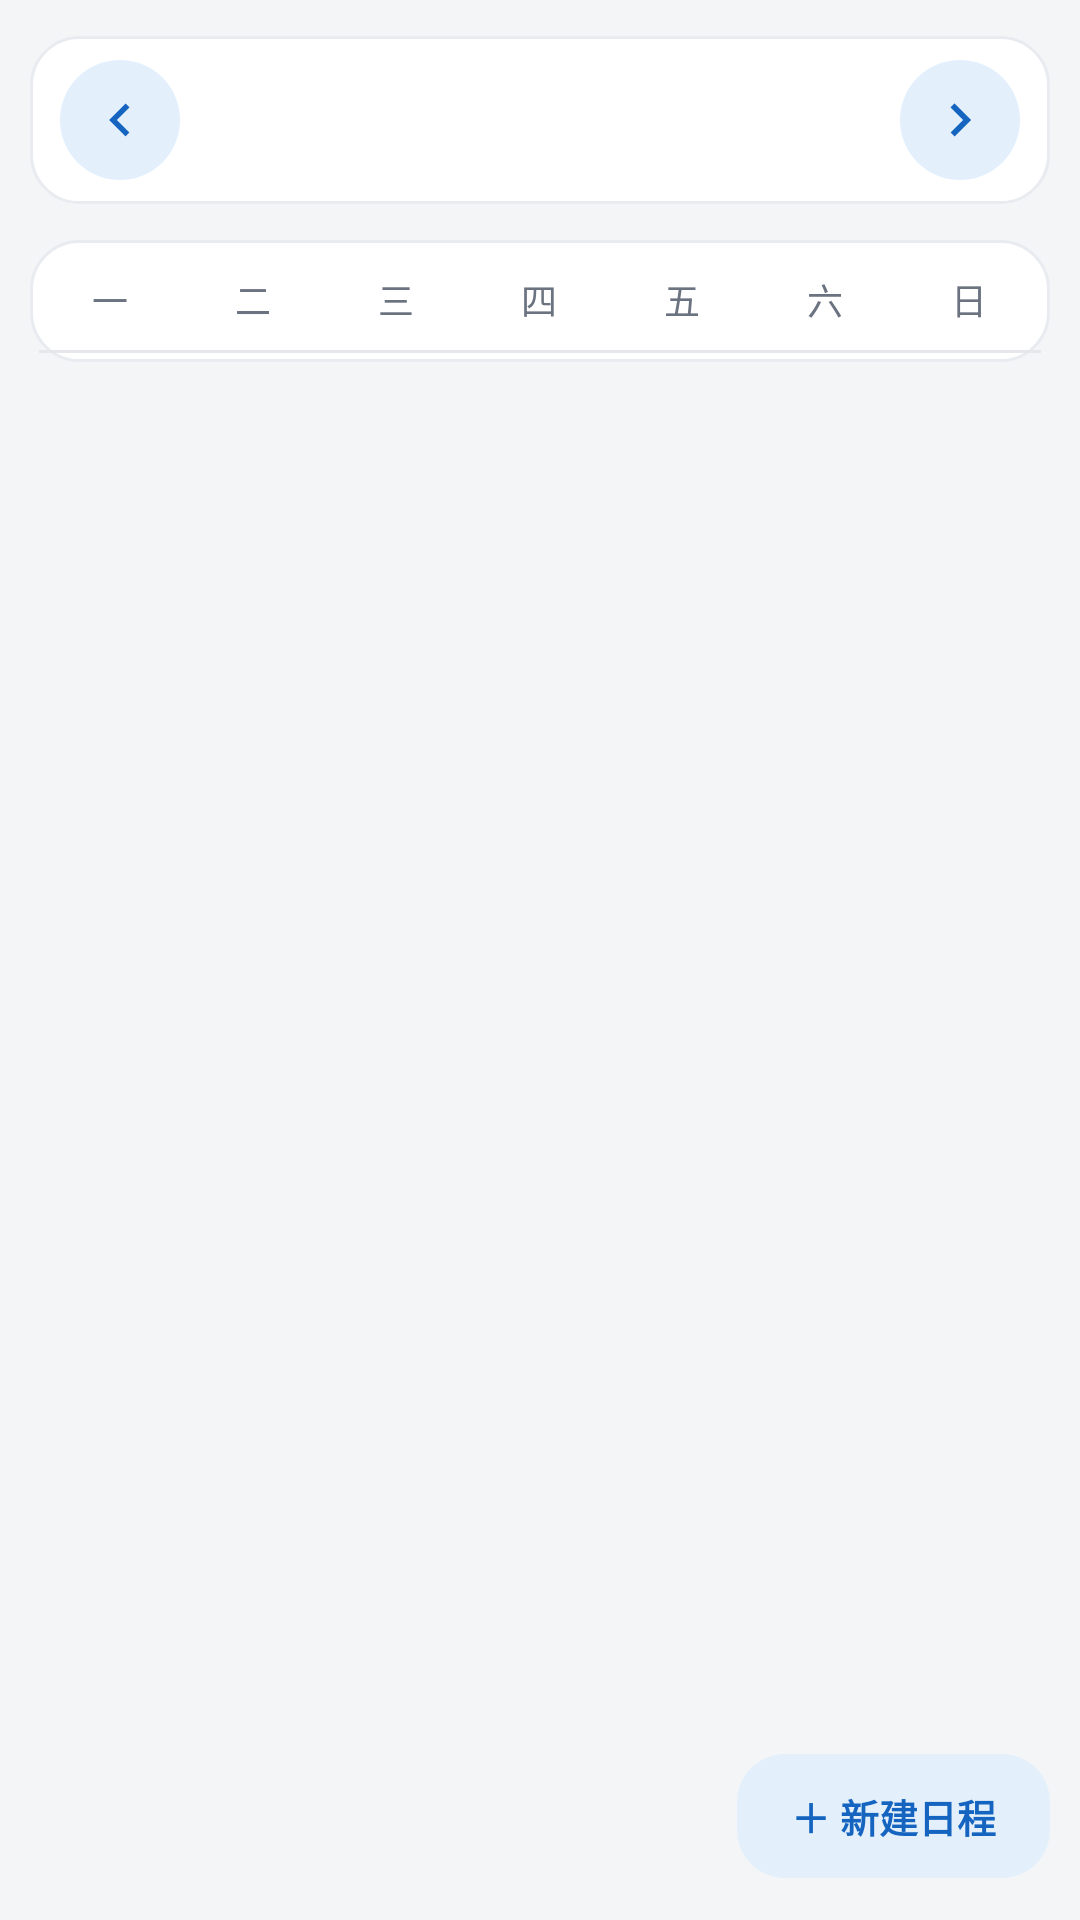

Locate icon controls on the screen. Image size 1080 x 1920, boxes as (x1, y1, x2, y2).
上个月: (60, 60, 180, 180)
下个月: (900, 60, 1020, 180)
